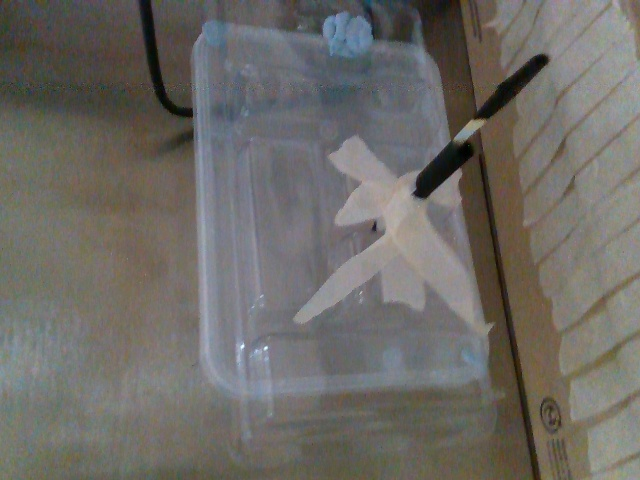test_strip: (450, 50, 550, 142)
